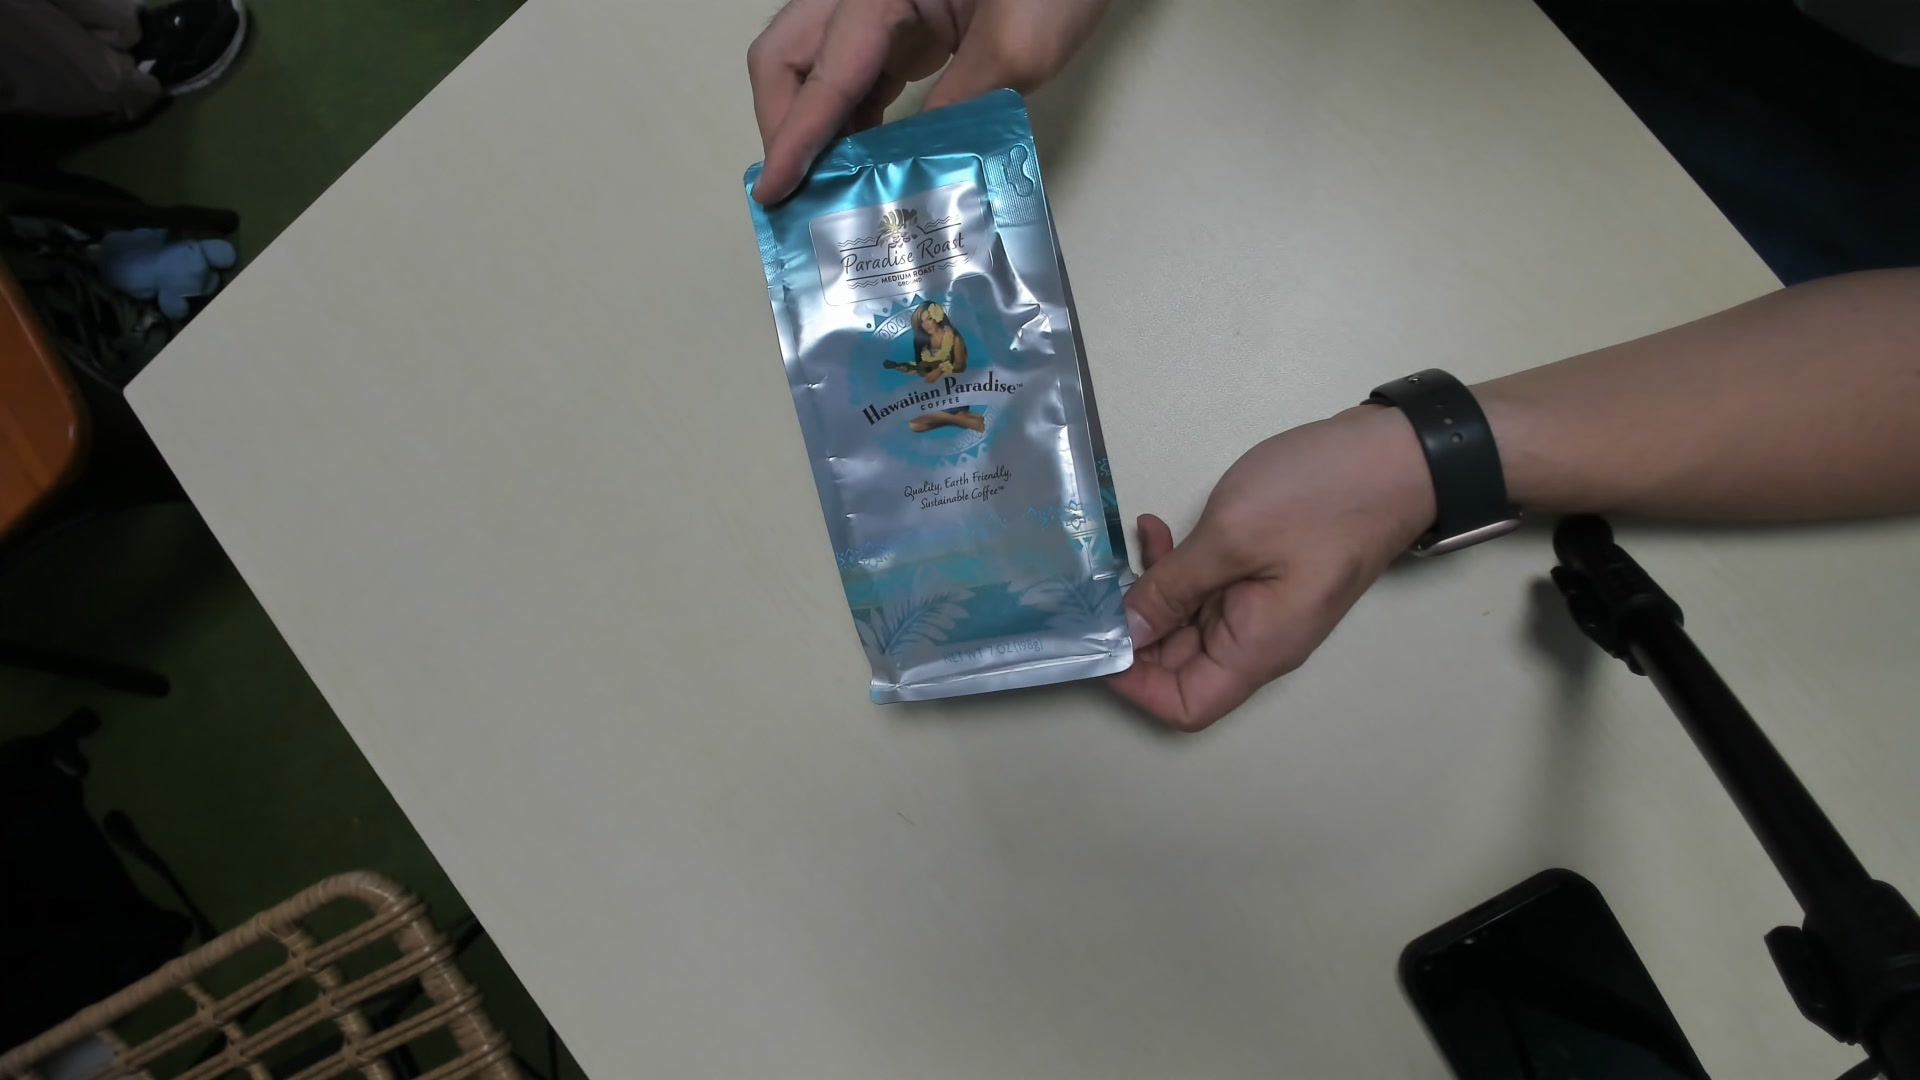Coffee_100-199g_NonHalal_NonHealthy: (744, 90, 1137, 707)
